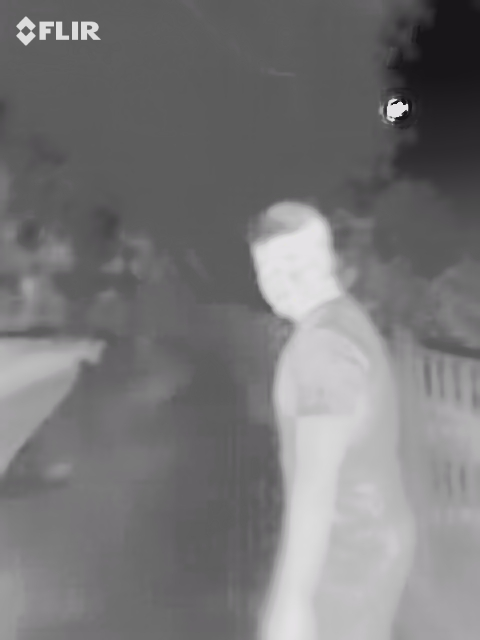head: (246, 205, 341, 317)
